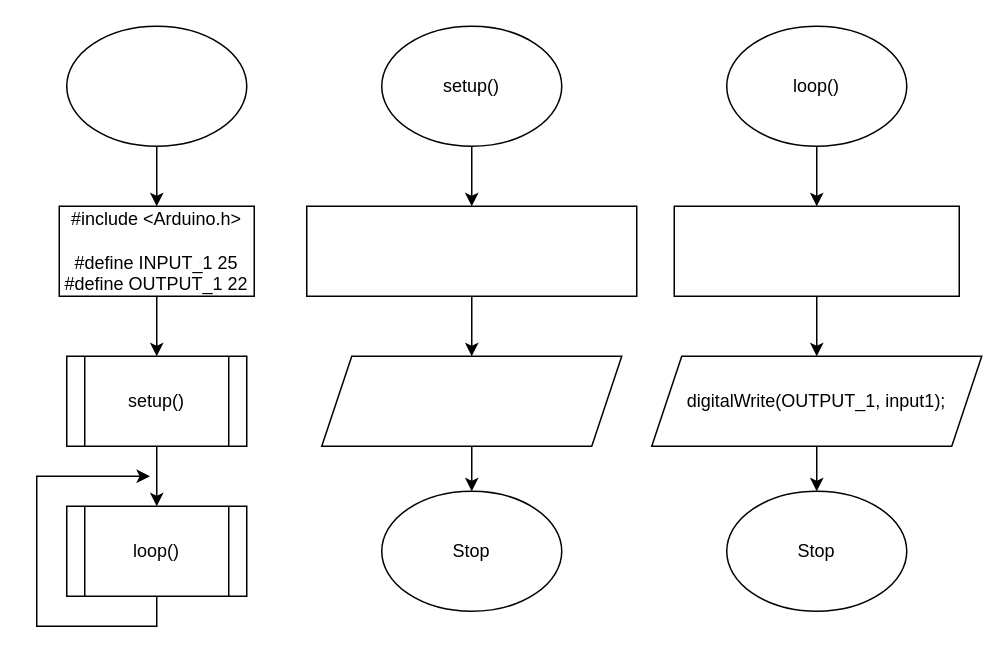
Some shapes in this 1008 by 665 pixel diagram are drawn without their labels. The shapes that lost their labels are listed below. From the top down, each one's centre as x and y in pixels, then its label:
(x=156, y=85): Start
(x=471, y=250): pinMode(INPUT_1, INPUT_PULLUP); pinMode(OUTPUT_1, OUTPUT); Serial.begin(115200);
(x=816, y=250): int input1, input2; input1 = digitalRead(INPUT_1);
(x=471, y=400): Serial.println("ESP32 Started");
